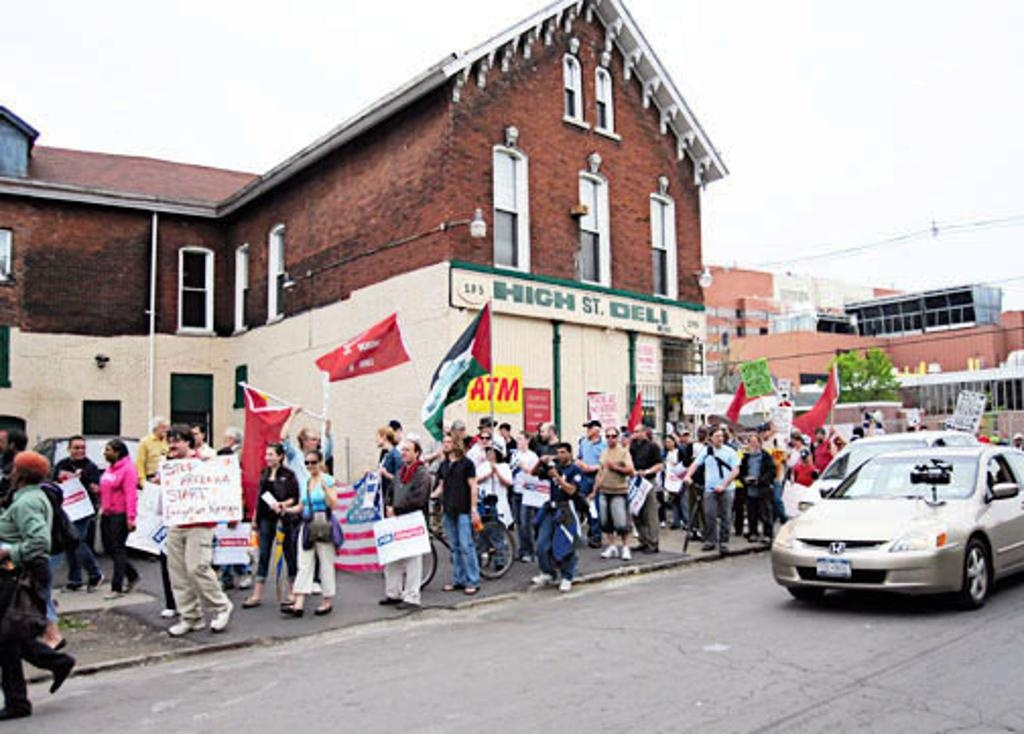human_face: (166, 434, 186, 456), (10, 466, 24, 486), (0, 433, 12, 455), (401, 444, 415, 462), (304, 456, 318, 472), (71, 442, 85, 458), (264, 448, 276, 466), (102, 446, 116, 460), (304, 433, 316, 449), (189, 428, 201, 443), (556, 448, 568, 462), (539, 427, 551, 441), (441, 438, 453, 451), (156, 424, 168, 436), (606, 431, 616, 445), (586, 423, 596, 436), (484, 421, 494, 434), (712, 432, 722, 445), (632, 426, 642, 438), (748, 438, 758, 450), (222, 434, 232, 446), (454, 426, 464, 438), (486, 446, 496, 457), (516, 434, 526, 445), (374, 432, 382, 445), (480, 434, 488, 444), (665, 438, 673, 448), (697, 428, 705, 438), (500, 427, 508, 437), (814, 431, 822, 439), (800, 453, 808, 461), (790, 434, 796, 444), (681, 432, 687, 440), (836, 439, 842, 446)
